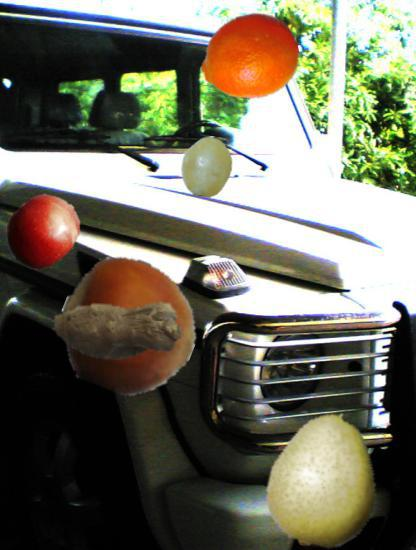Apple: (4, 192, 83, 271)
Clementine: (276, 450, 362, 536)
Ginger: (52, 263, 186, 397)
Grape: (177, 136, 238, 197)
Nut: (60, 259, 198, 397)
Pear: (256, 411, 394, 549)
Tangelo: (199, 7, 299, 107)
